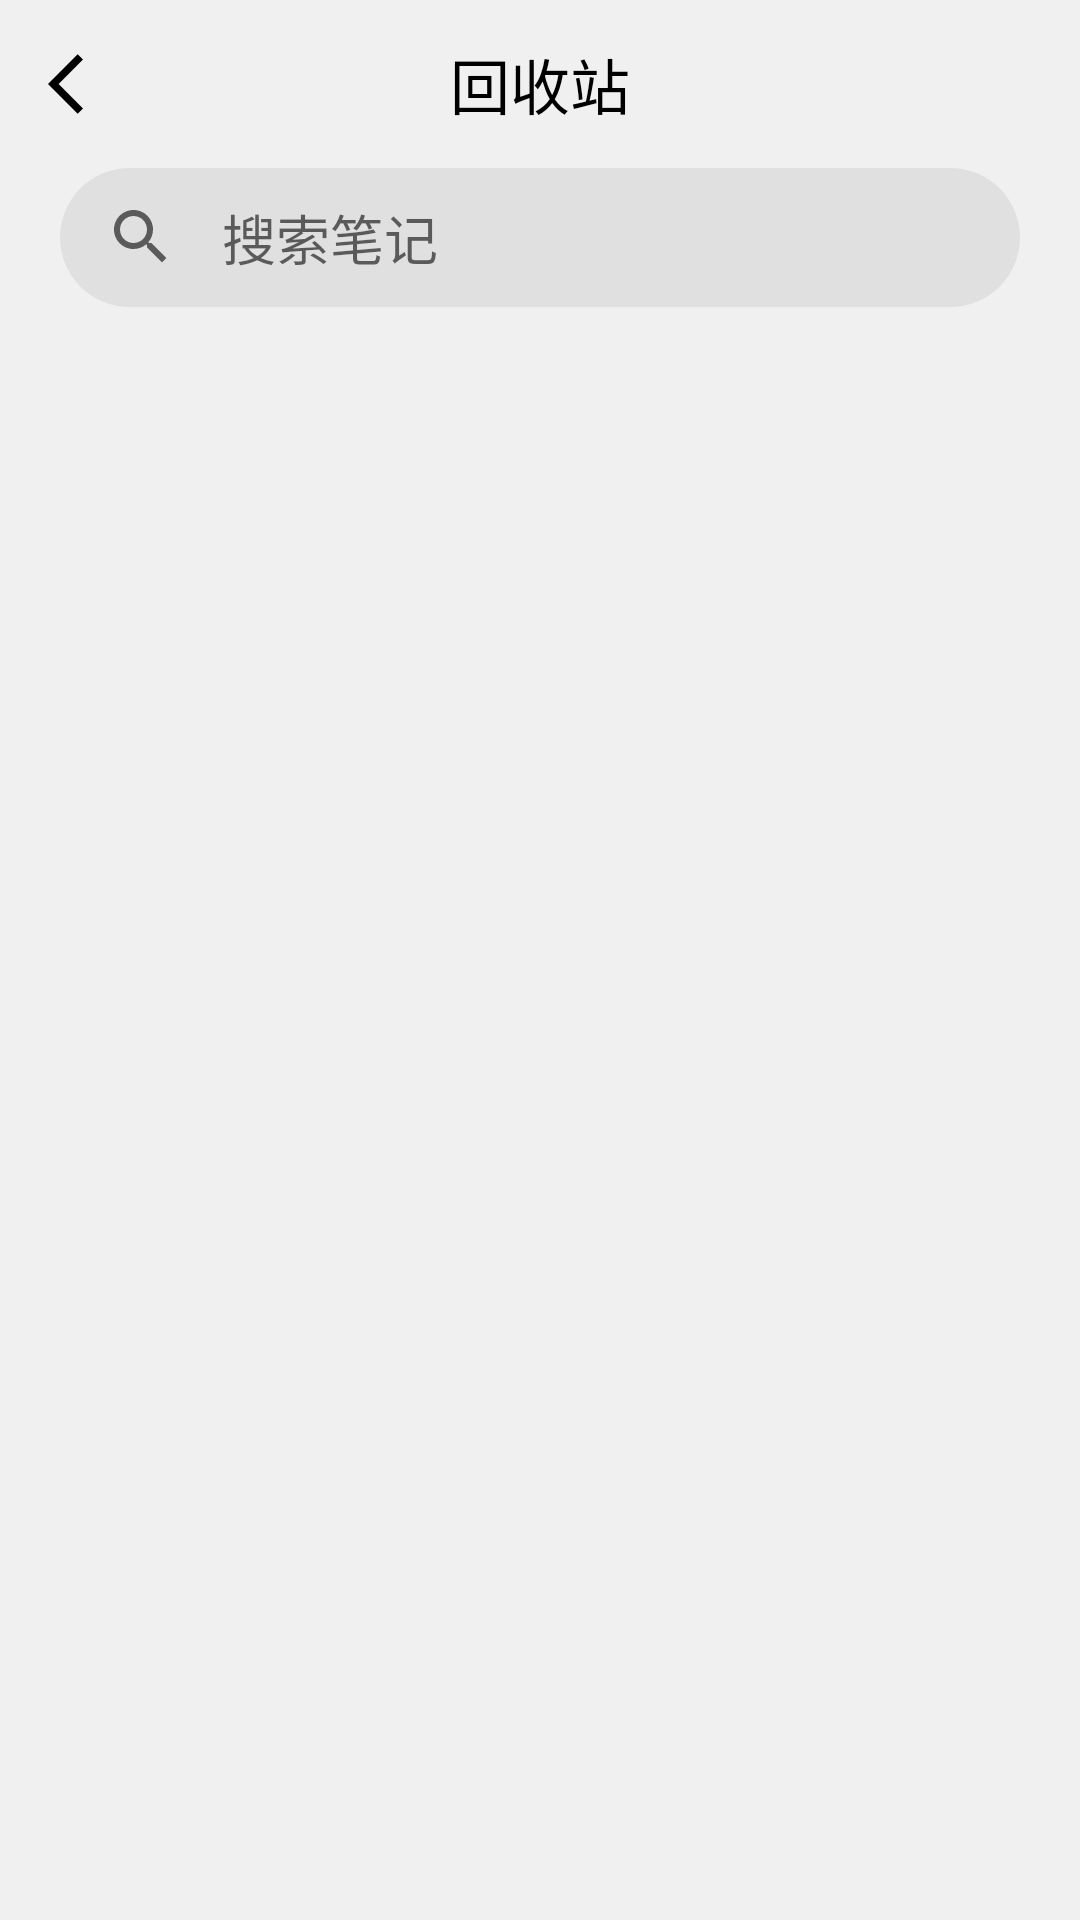

Icons on this 1080 × 1920 Android screen, each with the point to tap as (x,y):
arrow back: (65,84)
